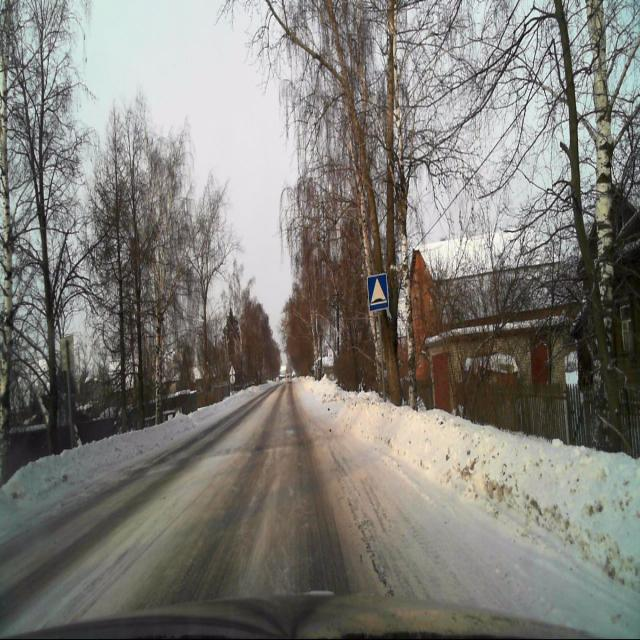object: (378, 311, 386, 403)
road sign: (368, 273, 389, 310)
